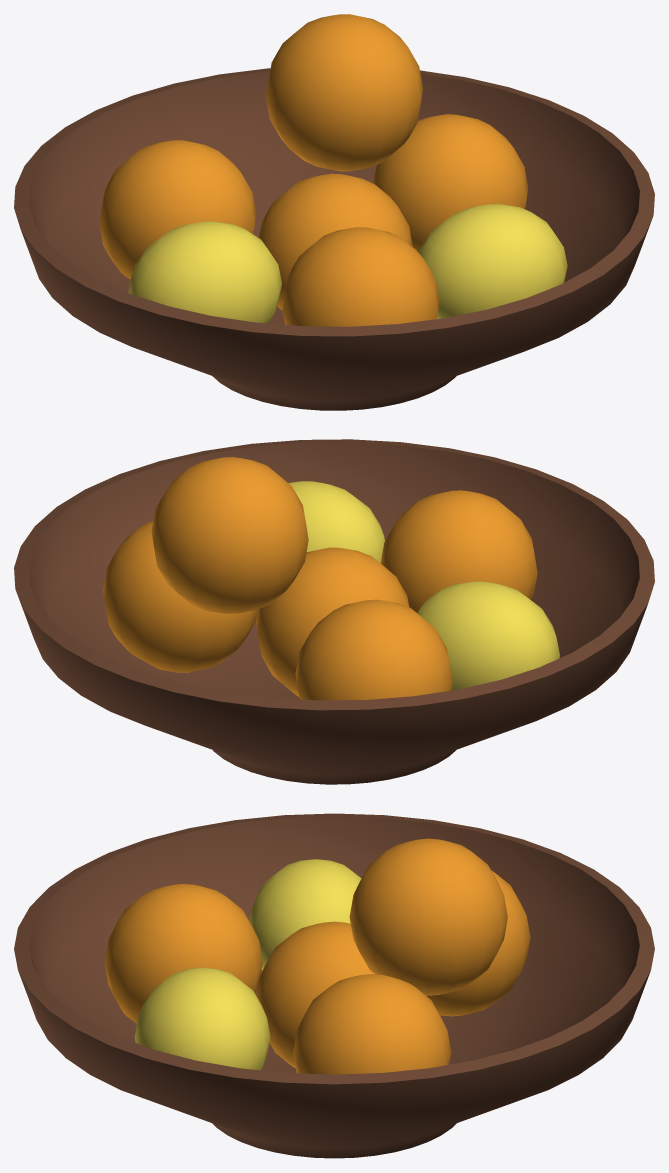
The model's file is fruit_bowl.glb.
3 views of the same model, one above another, from view 1: azimuth 30°, elevation 25°; view 2: azimuth 150°, elevation 25°; view 3: azimuth 270°, elevation 25° (orthographic).
Visible parts, largest first — view 1: Bowl_LOD0, Fruit_LOD0.006, Fruit_LOD0.002, Fruit_LOD0.003, Fruit_LOD0.001, Fruit_LOD0.004, Fruit_LOD0.005, Fruit_LOD0; view 2: Bowl_LOD0, Fruit_LOD0.006, Fruit_LOD0.002, Fruit_LOD0.003, Fruit_LOD0.001, Fruit_LOD0.005, Fruit_LOD0, Fruit_LOD0.004; view 3: Bowl_LOD0, Fruit_LOD0.006, Fruit_LOD0.003, Fruit_LOD0.001, Fruit_LOD0.004, Fruit_LOD0, Fruit_LOD0.005, Fruit_LOD0.002.
Part boxes in pixels (<box>): Bowl_LOD0: <box>14,68,654,410</box>; Fruit_LOD0.006: <box>266,14,422,171</box>; Fruit_LOD0.002: <box>99,140,256,279</box>; Fruit_LOD0.003: <box>282,227,439,326</box>; Fruit_LOD0.001: <box>373,114,528,252</box>; Fruit_LOD0.004: <box>419,204,567,318</box>; Fruit_LOD0.005: <box>128,221,281,323</box>; Fruit_LOD0: <box>259,173,412,310</box>; Bowl_LOD0: <box>14,439,654,784</box>; Fruit_LOD0.006: <box>151,457,308,614</box>; Fruit_LOD0.002: <box>295,599,452,700</box>; Fruit_LOD0.003: <box>380,490,537,612</box>; Fruit_LOD0.001: <box>103,521,257,672</box>; Fruit_LOD0.005: <box>417,581,559,690</box>; Fruit_LOD0: <box>256,547,409,696</box>; Fruit_LOD0.004: <box>288,481,384,562</box>; Bowl_LOD0: <box>14,813,654,1158</box>; Fruit_LOD0.006: <box>349,838,507,995</box>; Fruit_LOD0.003: <box>104,884,262,1023</box>; Fruit_LOD0.001: <box>293,974,451,1074</box>; Fruit_LOD0.004: <box>134,967,270,1070</box>; Fruit_LOD0: <box>256,921,374,1067</box>; Fruit_LOD0.005: <box>249,859,361,970</box>; Fruit_LOD0.002: <box>426,870,530,1016</box>.
Bounding box in the file's own units: 0.34 × 0.1669 × 0.34.
